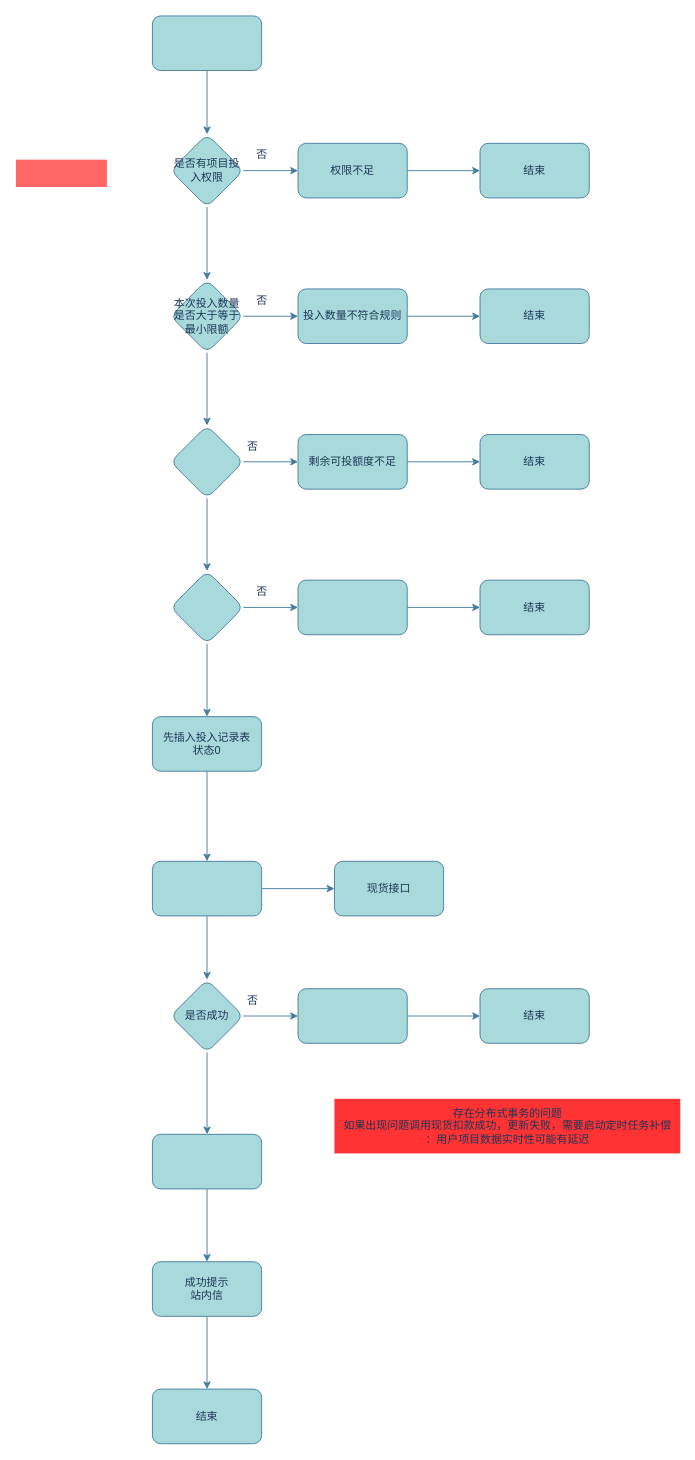
This 695x1460 diagram has some shape labels left out. Each missing label, with the box of its shape:
剩余可投额度是否足够: (170, 425, 243, 498)
可用余额不足: (297, 579, 407, 635)
开始: (152, 15, 262, 71)
扣减用户资产 生成流水: (152, 860, 262, 916)
提示返回error code: (297, 988, 407, 1043)
更新用户项目数据 更新投入记录 更新项目数据: (152, 1133, 262, 1189)
权限这期不做: (15, 159, 106, 187)
资产可用余额是否足够: (170, 570, 243, 644)
